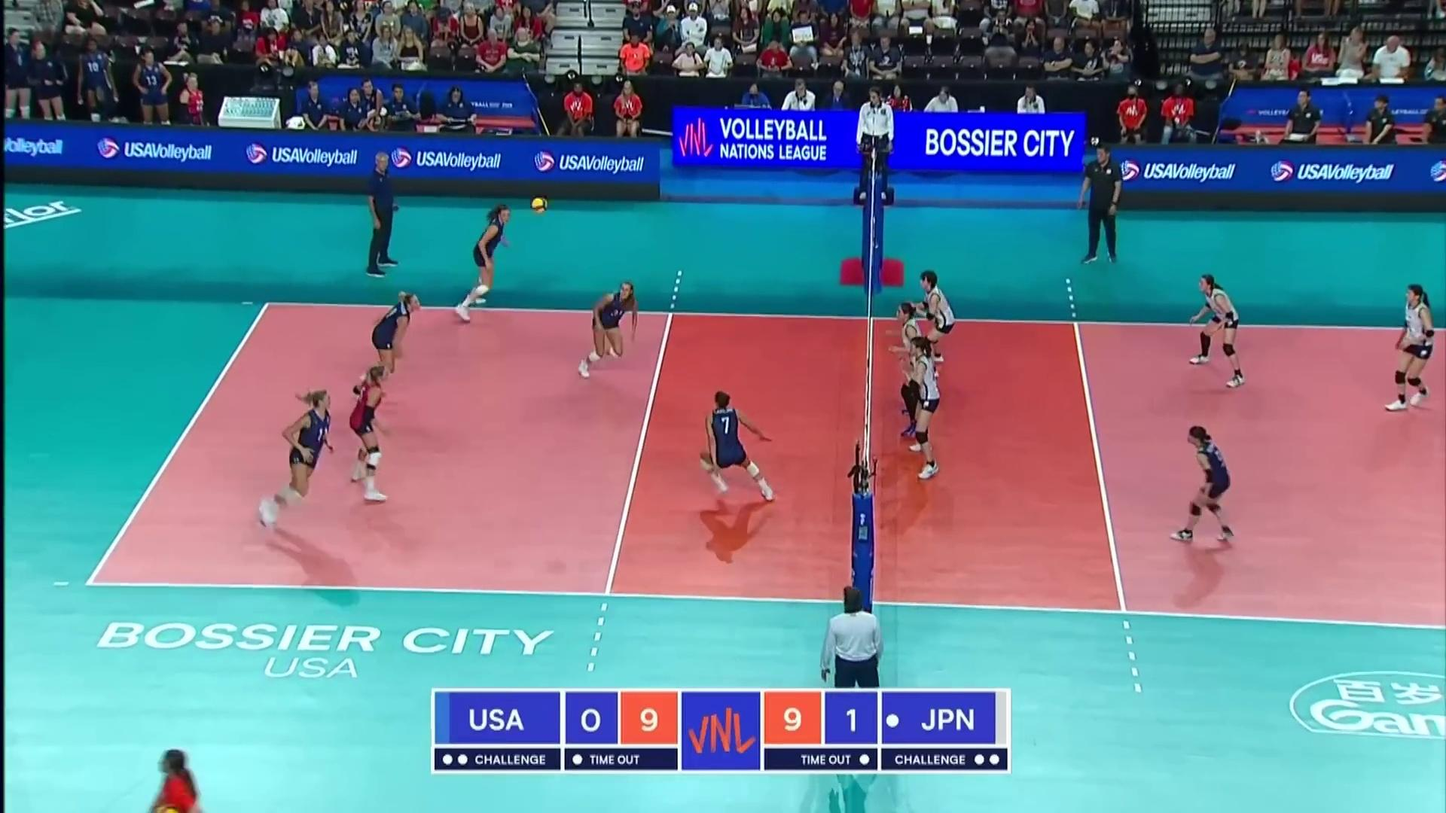player: (261, 392, 338, 536), (698, 391, 777, 507), (348, 290, 422, 405), (1169, 428, 1240, 546), (456, 204, 520, 327), (1184, 277, 1247, 388), (347, 359, 391, 502), (904, 337, 947, 483), (1391, 286, 1441, 411), (581, 278, 643, 378), (905, 273, 955, 379), (895, 304, 933, 441)
refree: (822, 587, 886, 751), (854, 89, 892, 202)
